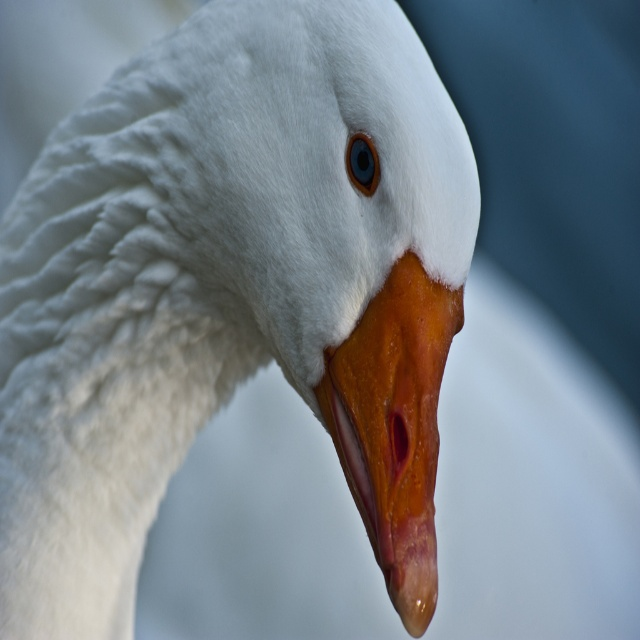Goose: (0, 2, 480, 639)
